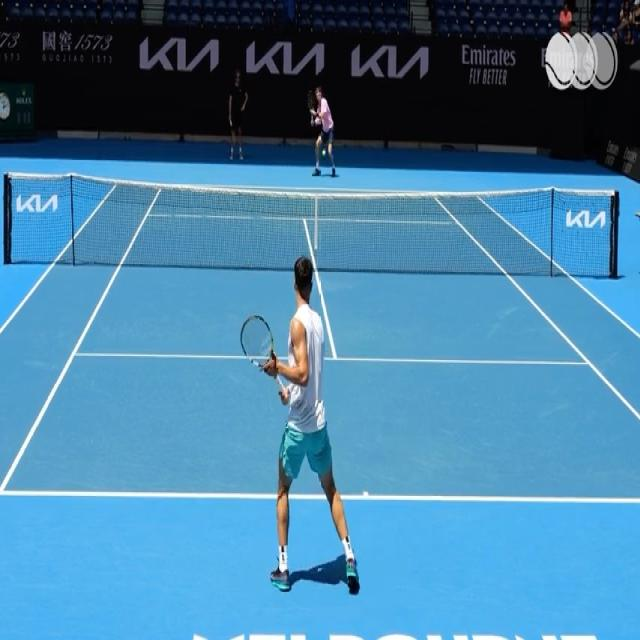forehand-finish: (237, 259, 374, 600)
